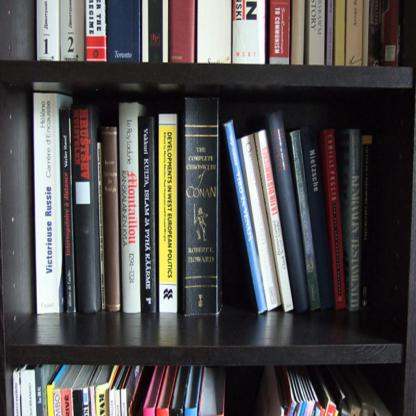book: (9, 359, 227, 415), (182, 96, 226, 318), (264, 113, 311, 311), (222, 122, 270, 310), (35, 92, 74, 312), (236, 132, 282, 308), (116, 98, 150, 314), (254, 130, 294, 309), (72, 100, 102, 314), (314, 129, 348, 312), (290, 132, 324, 311), (302, 134, 336, 312), (154, 112, 182, 316), (277, 367, 394, 415), (98, 122, 122, 314), (136, 111, 158, 314), (60, 104, 76, 312), (342, 128, 360, 308), (358, 134, 374, 307), (192, 0, 232, 65), (230, 0, 266, 66), (106, 0, 143, 61), (96, 139, 107, 312), (168, 0, 197, 64), (138, 0, 167, 62), (58, 0, 85, 61), (266, 0, 290, 65), (36, 0, 59, 61), (83, 0, 106, 60), (368, 0, 388, 68), (382, 0, 402, 68), (306, 0, 326, 66), (290, 0, 307, 65), (344, 0, 360, 66), (332, 0, 346, 65), (324, 0, 335, 67), (360, 0, 369, 65)
